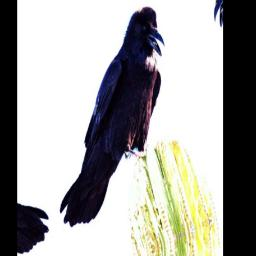Crow: (32, 0, 188, 235)
